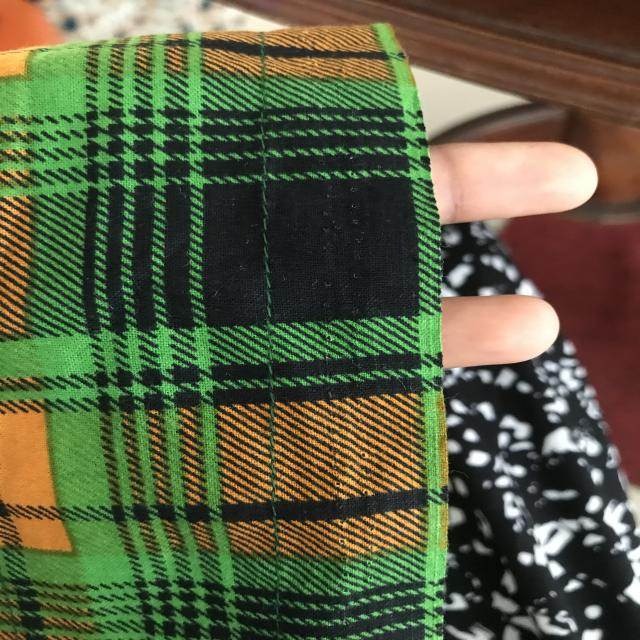good: (246, 202, 302, 317)
